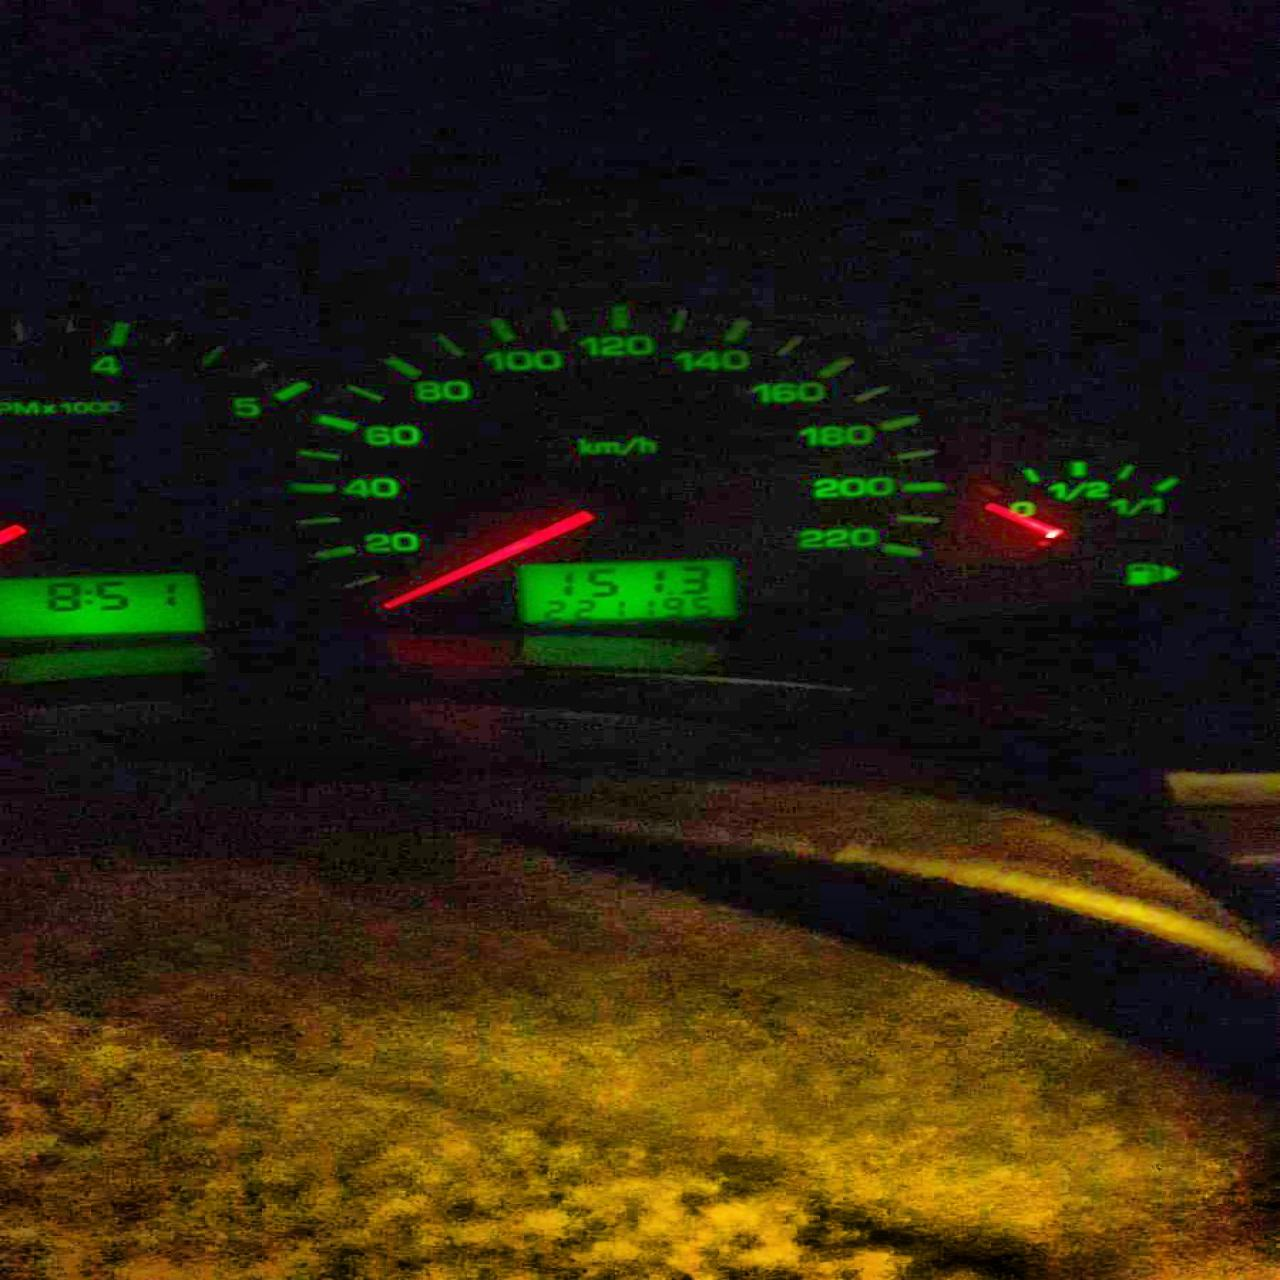-: (663, 591, 675, 595)
1: (560, 570, 572, 595), (652, 568, 663, 593), (645, 599, 655, 615), (615, 599, 625, 615)
2: (572, 599, 595, 620), (544, 600, 565, 622)
3: (679, 565, 709, 594)
5: (586, 567, 617, 597), (690, 595, 710, 617)
9: (662, 597, 682, 618)
odometer: (516, 557, 737, 624)
